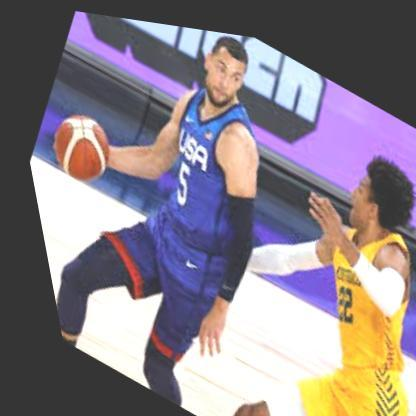basketball: (30, 98, 120, 194)
